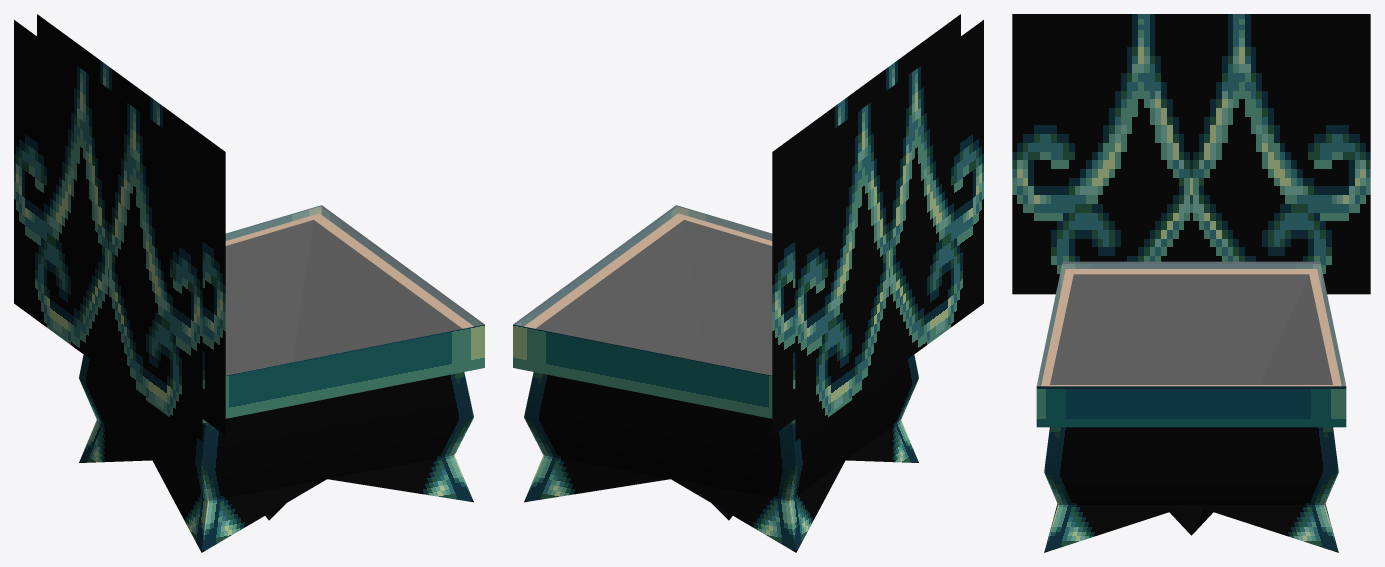
3 views of the same model, side by side, from view 1: azimuth 30°, elevation 25°; view 2: azimuth 150°, elevation 25°; view 3: azimuth 270°, elevation 25° (orthographic). The views are drawn at different scales.
Parts seen in each view (by area): view 1: 3568kg_01_isu; view 2: 3568kg_01_isu; view 3: 3568kg_01_isu.
Part boxes in pixels (x1,y1,x2,y2): 3568kg_01_isu: (14, 14, 484, 552); 3568kg_01_isu: (513, 14, 983, 552); 3568kg_01_isu: (1012, 14, 1370, 552).
Size of the model in its own units: 0.7585 by 1.16 by 0.8398.
4 materials, 3 textured.
